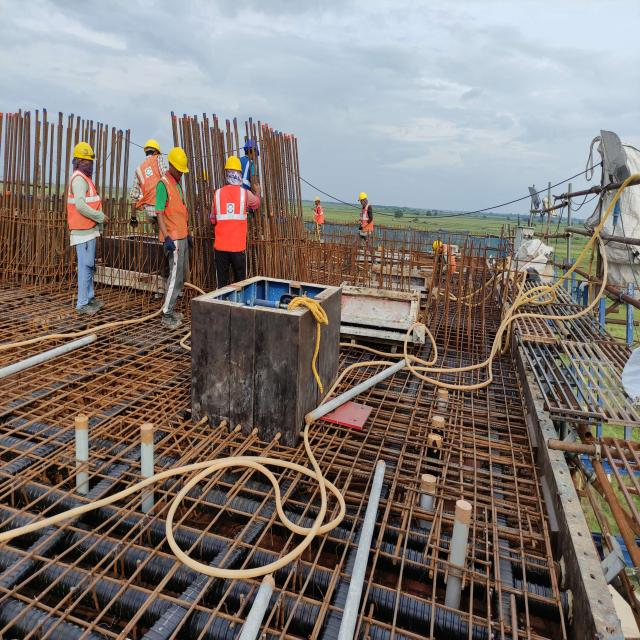Safetyvest: (214, 189, 248, 253), (155, 177, 188, 240), (68, 176, 103, 230), (138, 157, 163, 206), (362, 205, 372, 228), (314, 206, 324, 223)
